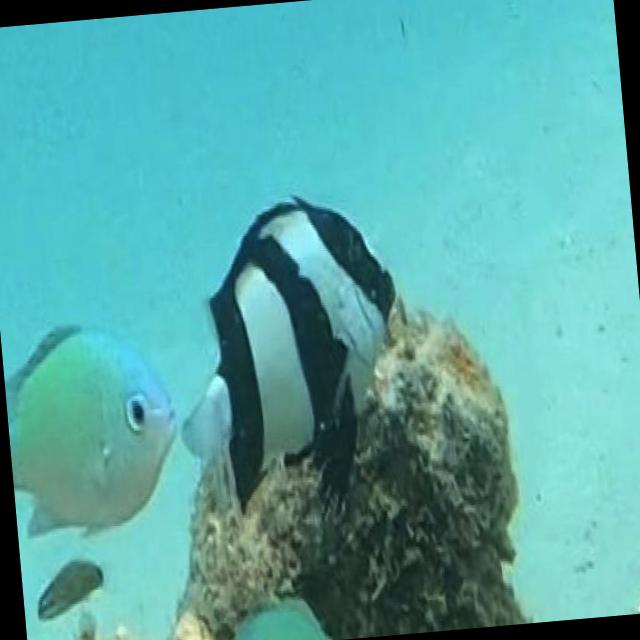Three_striped DasmselFish: (165, 188, 422, 526)
